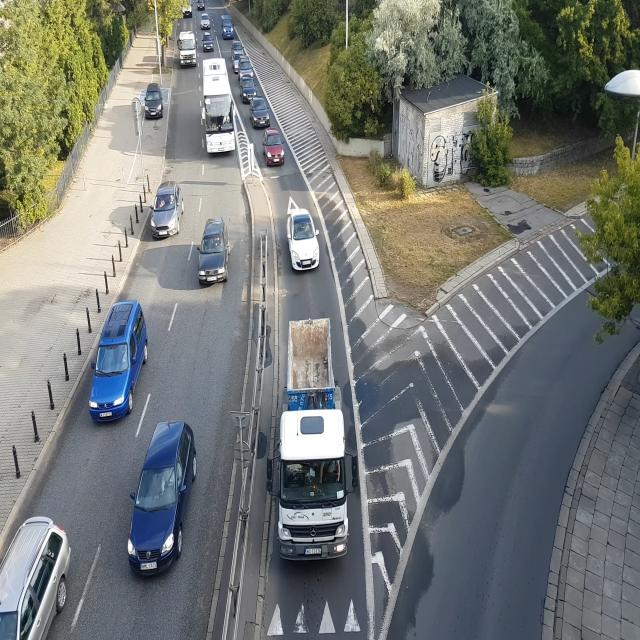bus: (202, 54, 237, 158)
car: (126, 424, 196, 591), (0, 518, 76, 640), (85, 300, 146, 420), (286, 205, 322, 277), (148, 179, 188, 239), (197, 221, 230, 289), (262, 128, 285, 167), (144, 89, 166, 118), (250, 95, 272, 124), (239, 76, 257, 100), (238, 58, 254, 78), (200, 33, 215, 53), (222, 15, 234, 38), (199, 14, 212, 29), (233, 53, 243, 72), (232, 40, 245, 54), (182, 0, 193, 15), (197, 0, 206, 11)
truck: (272, 310, 358, 578), (179, 28, 197, 70)
